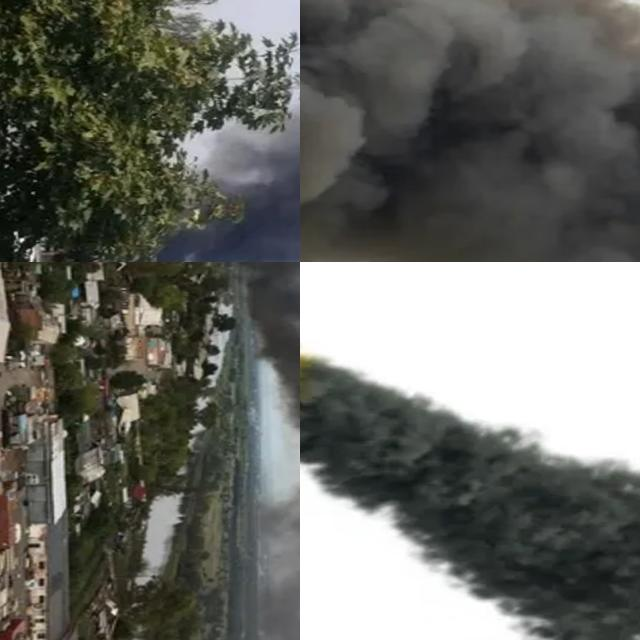smoke: (300, 331, 640, 640), (300, 0, 640, 262), (97, 54, 300, 262), (211, 262, 300, 474)
